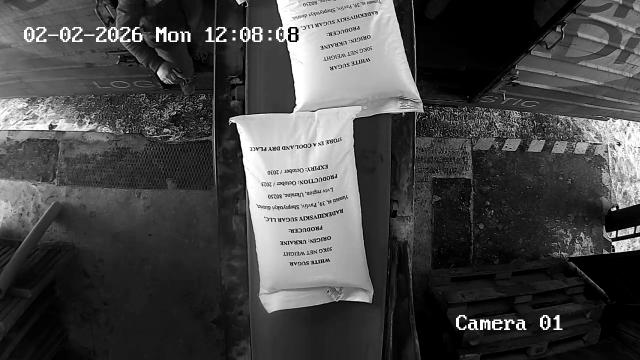bag: (230, 104, 374, 314), (273, 0, 424, 118)
